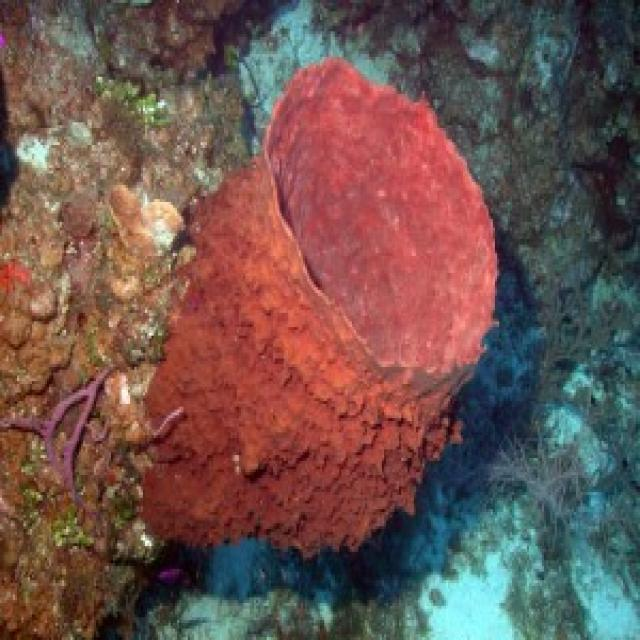Healthy: (144, 58, 494, 553)
